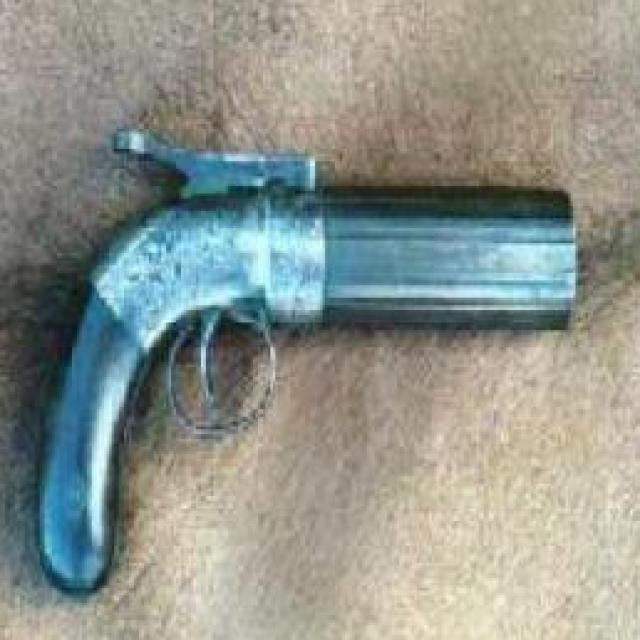pistol: (32, 117, 583, 580)
